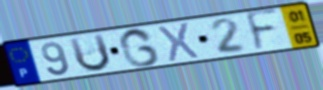2: (210, 17, 249, 55)
9: (39, 41, 71, 77)
F: (244, 7, 281, 55)
G: (117, 27, 163, 69)
U: (66, 32, 113, 74)
X: (155, 20, 201, 63)
